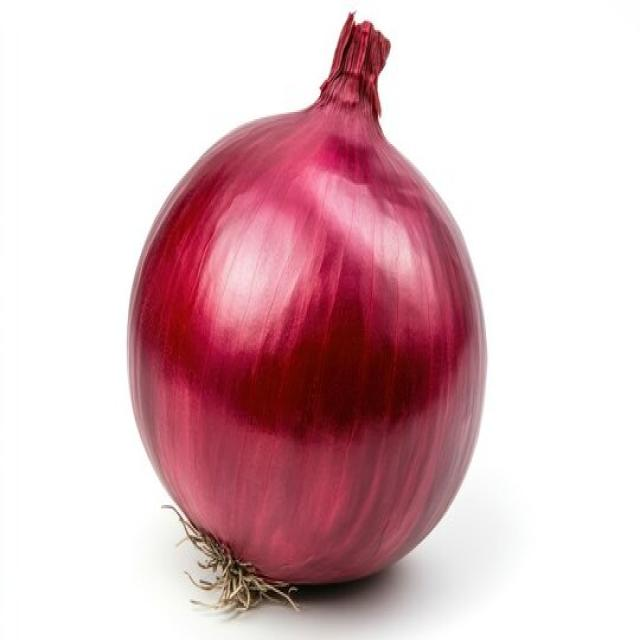Onion: (126, 9, 488, 613)
